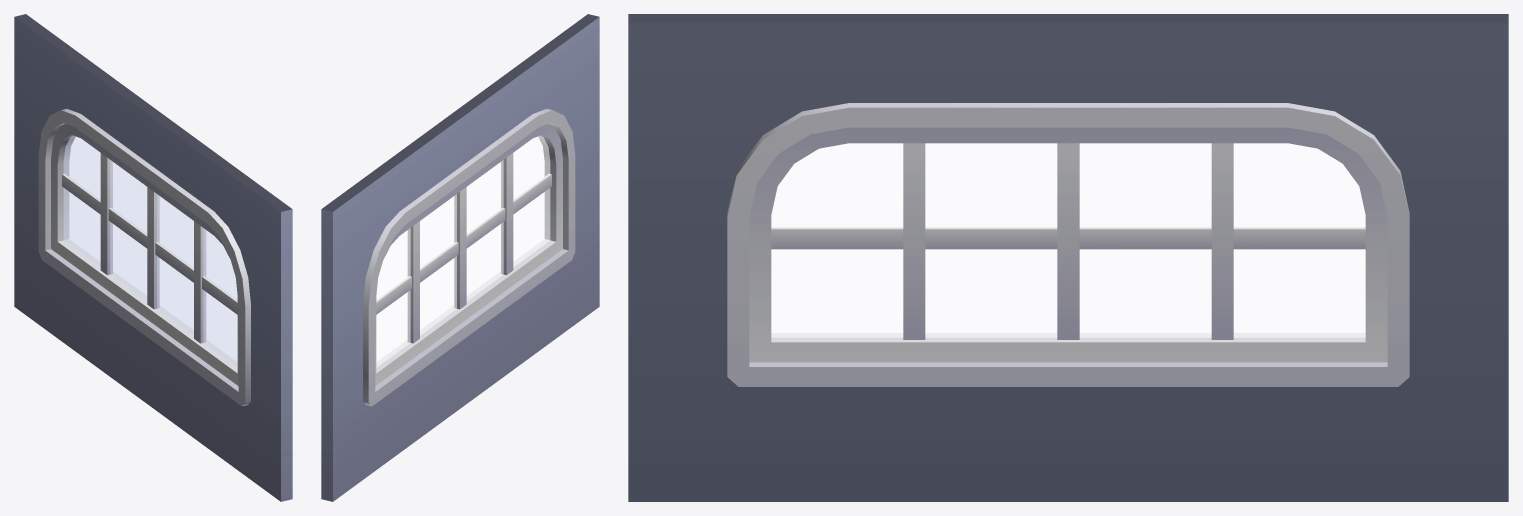
The model's file is wall-window-wide-round-detailed.optimized.glb.
3 renders of one model, left to right at view 1: azimuth 30°, elevation 25°; view 2: azimuth 150°, elevation 25°; view 3: azimuth 270°, elevation 25°, orthographic. The views are drawn at different scales.
Visible parts, largest first — view 1: wall-window-wide-round-detailed, (%ignore); view 2: wall-window-wide-round-detailed, (%ignore); view 3: wall-window-wide-round-detailed, (%ignore).
Boxes of the visible parts, x1,y1,x2,y2 form: wall-window-wide-round-detailed: (14,14,292,501); (%ignore): (63,136,237,367); wall-window-wide-round-detailed: (321,14,599,501); (%ignore): (376,136,550,367); wall-window-wide-round-detailed: (628,14,1508,501); (%ignore): (771,143,1365,337).
Bounding box in the file's own units: 0.2002 × 2.4 × 4.
2 materials, 1 textured.
